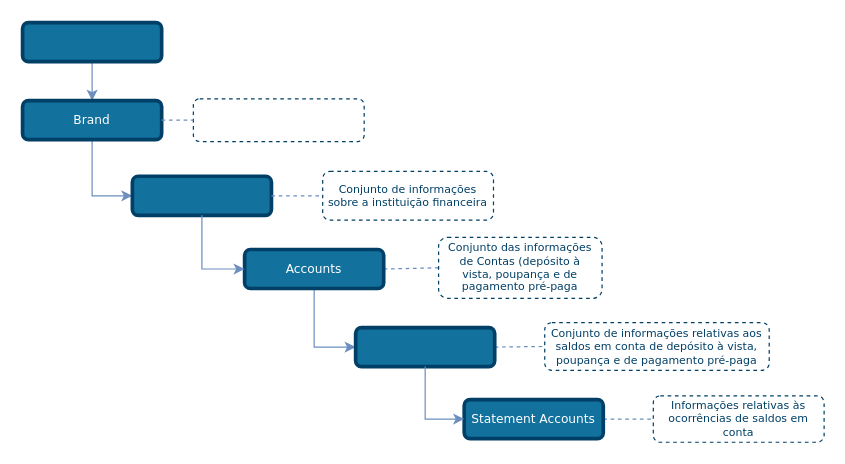
Image size: 845x464. Some labels were removed from this diagram. The shapes that lost their labels are listed below. From the top down, each one's centre as x and y in pixels, then its label:
pixel 91 41: Data
pixel 278 120: Dados da Marca selecionada pelas Organizações
pixel 201 195: Companies
pixel 424 346: Balances
